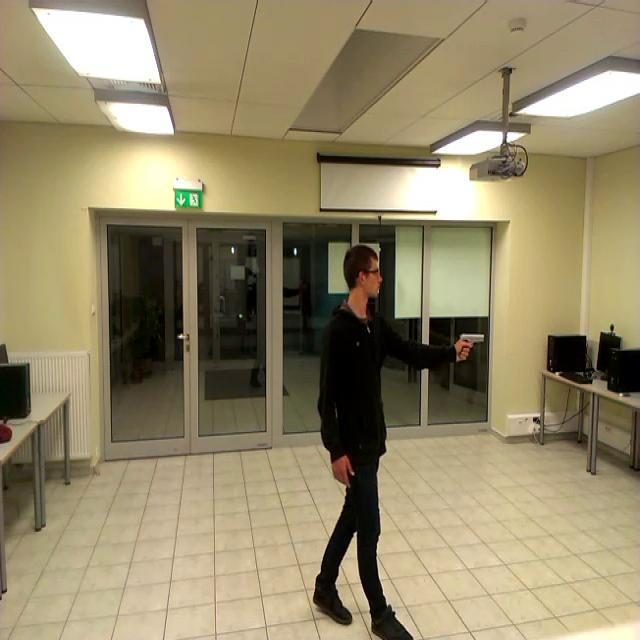Gun: (458, 332, 486, 358)
